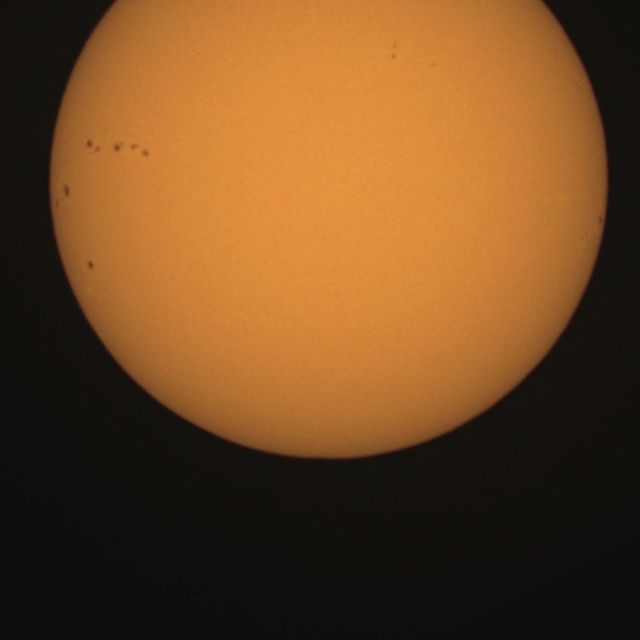sunspot: (110, 140, 150, 158), (53, 182, 71, 211), (84, 138, 102, 156), (389, 41, 399, 61), (597, 213, 605, 227), (86, 259, 95, 271)
